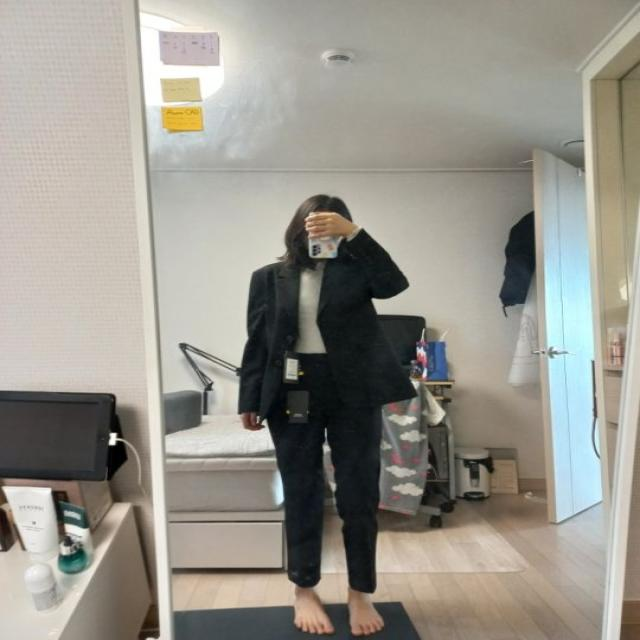blazer: (241, 229, 416, 411)
slacks: (265, 342, 388, 588)
